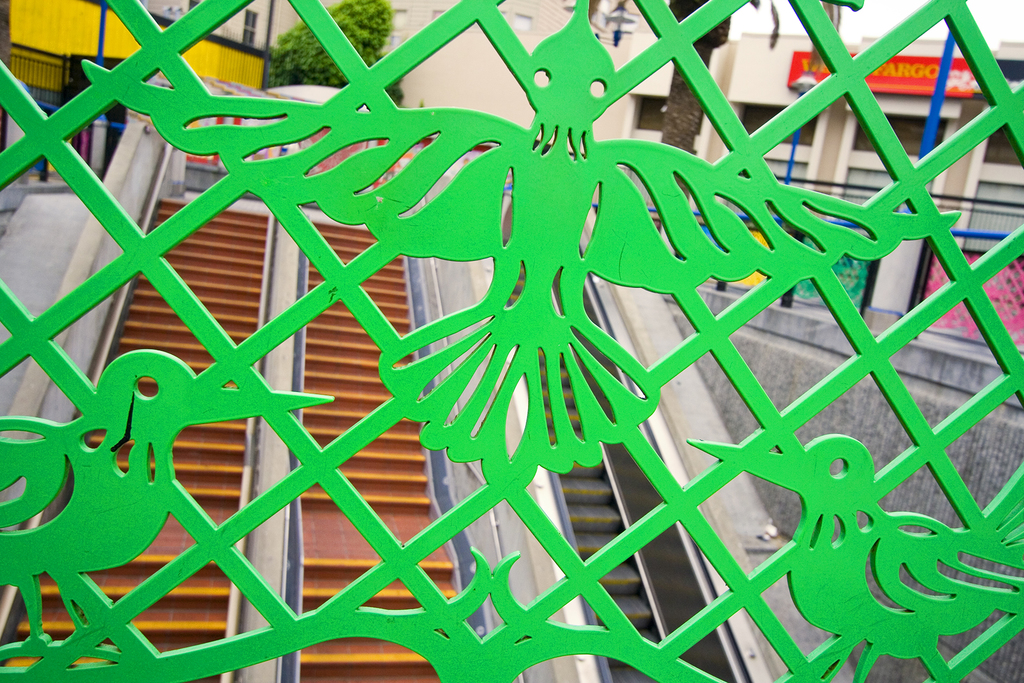Tree: (268, 0, 403, 105)
